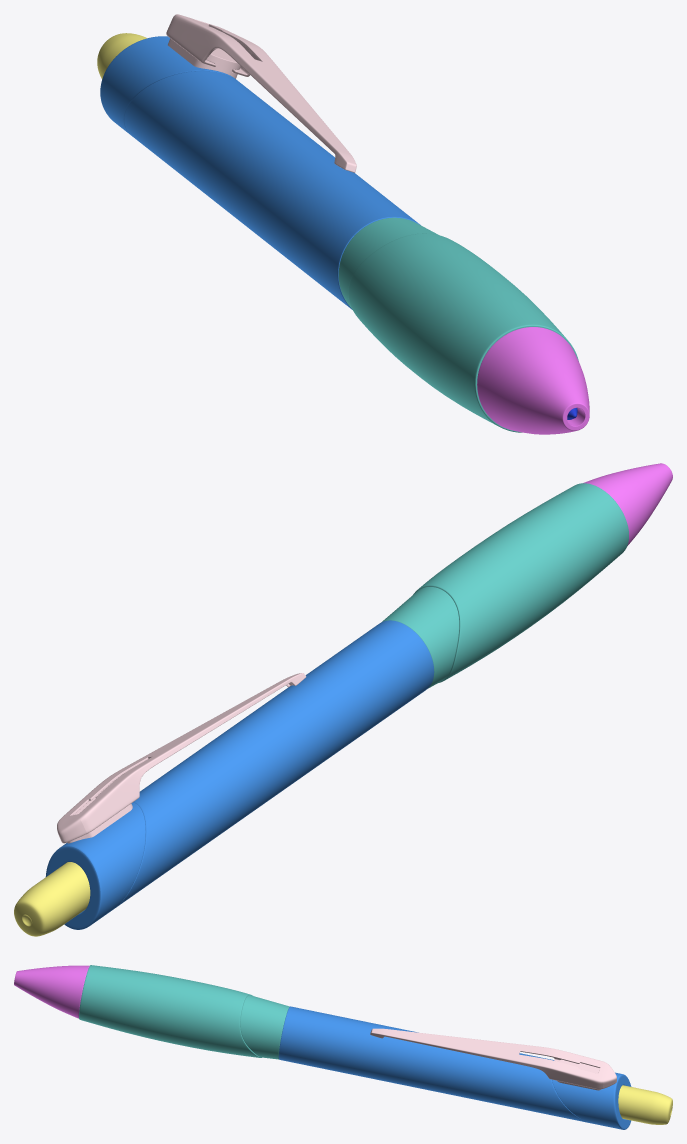
3 views of the same model, one above another, from view 1: azimuth 30°, elevation 25°; view 2: azimuth 150°, elevation 25°; view 3: azimuth 270°, elevation 25° (orthographic). The views are drawn at different scales.
Visible parts, largest first — view 1: split_parent_1, split_parent_2, pen_09_0, split_parent_4, pen_01_0; view 2: split_parent_1, split_parent_2, split_parent_4, pen_01_0, pen_09_0; view 3: split_parent_1, split_parent_2, split_parent_4, pen_09_0, pen_01_0.
Boxes of the visible parts, bbox=[...] form: split_parent_1: bbox=[100, 36, 420, 309]; split_parent_2: bbox=[338, 217, 578, 432]; pen_09_0: bbox=[477, 327, 589, 434]; split_parent_4: bbox=[166, 14, 356, 172]; pen_01_0: bbox=[97, 33, 146, 79]; split_parent_1: bbox=[45, 620, 434, 929]; split_parent_2: bbox=[381, 483, 628, 688]; split_parent_4: bbox=[57, 673, 306, 843]; pen_01_0: bbox=[14, 862, 90, 936]; pen_09_0: bbox=[583, 463, 672, 545]; split_parent_1: bbox=[278, 1006, 631, 1129]; split_parent_2: bbox=[79, 965, 289, 1059]; split_parent_4: bbox=[370, 1028, 616, 1090]; pen_09_0: bbox=[14, 965, 89, 1018]; pen_01_0: bbox=[618, 1085, 672, 1124].
Size of the model in its own units: 0.2254 by 0.201 by 1.
